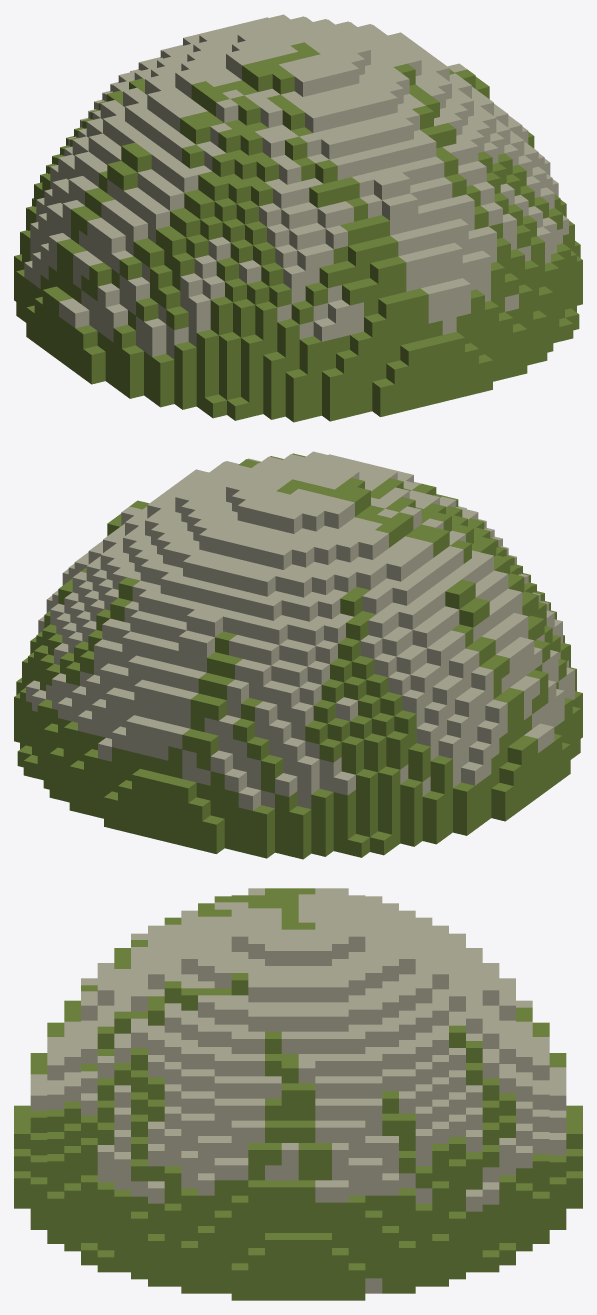
The model's file is forest1.2-3.obj.
The picture shows the model from 3 angles, top to bottom: view 1: azimuth 30°, elevation 25°; view 2: azimuth 150°, elevation 25°; view 3: azimuth 270°, elevation 25°; orthographic projection. The views are drawn at different scales.
Size of the model in its own units: 3.4 by 1.7 by 3.4.
Materials: 1 (1 with a texture image).
